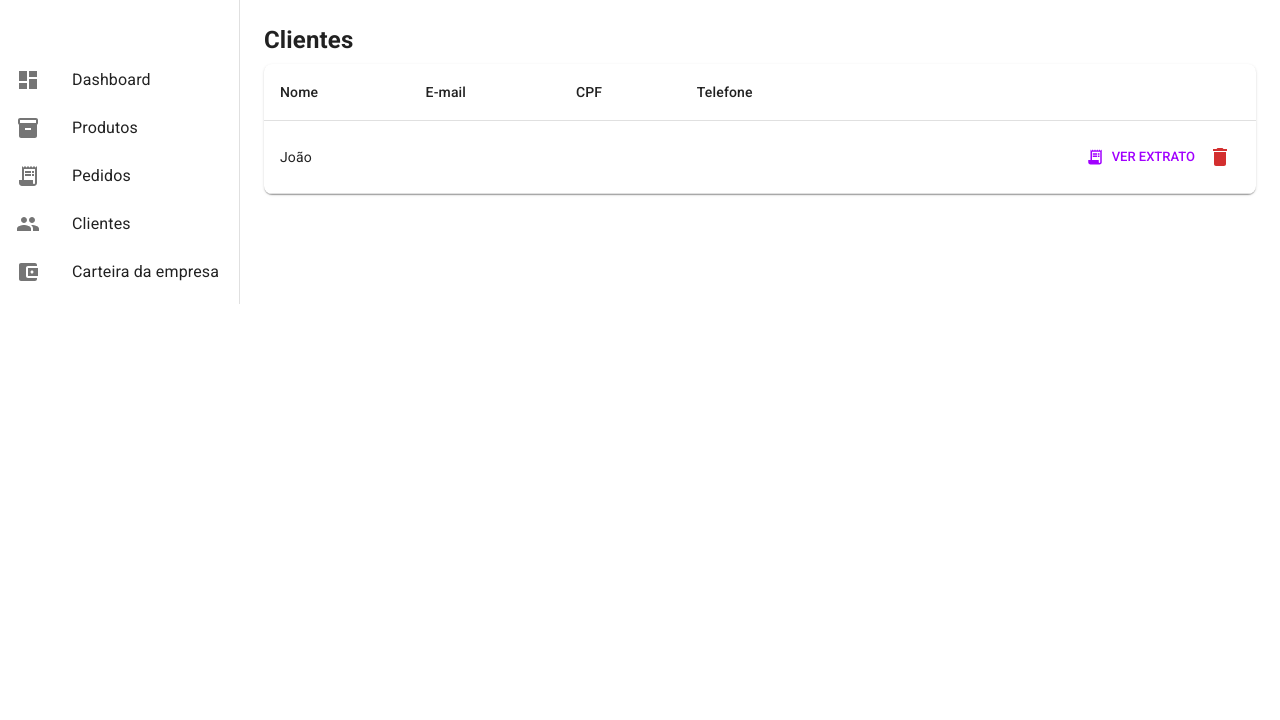
Test case: AdminCustomers › erro de delete notifica
This screenshot has width=1280, height=720.
Expected: the text "João" is shown, x1=264 y1=121 x2=410 y2=194
Click the button named "excluir".
click(1220, 157)  # box x1=1200 y1=137 x2=1240 y2=177
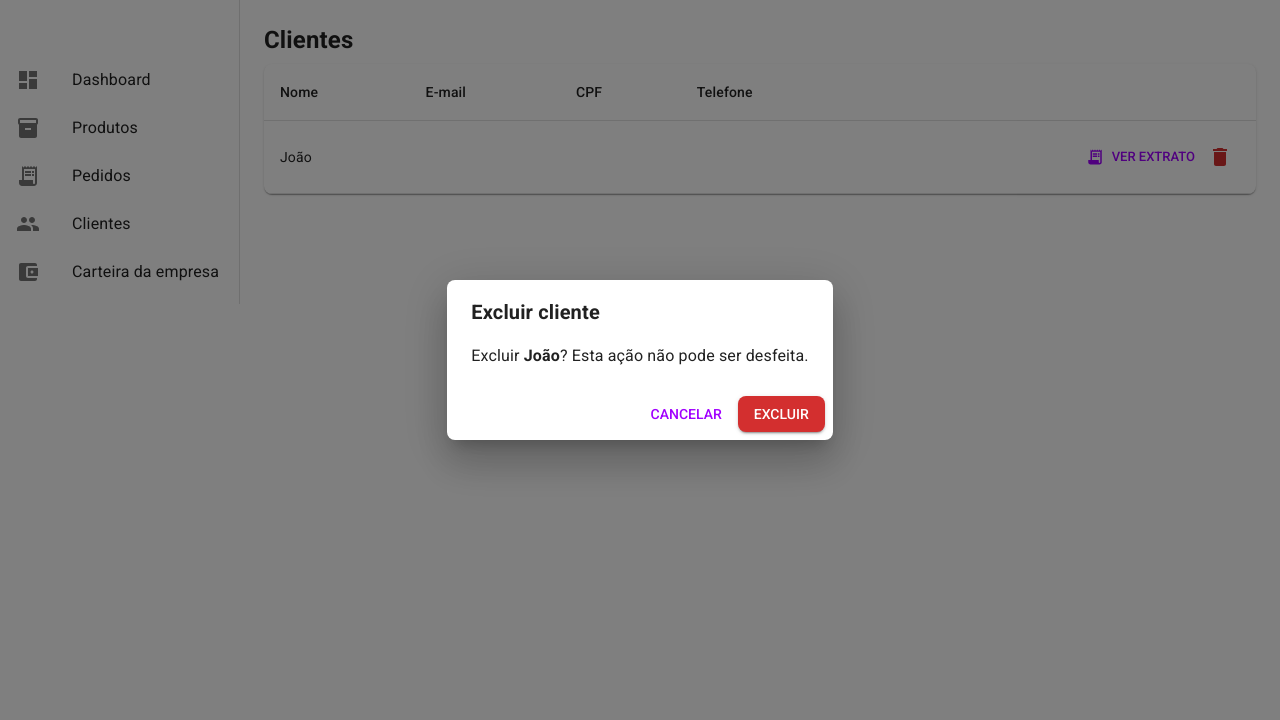
Click the button "Excluir".
click(781, 414)  # box x1=738 y1=396 x2=825 y2=432
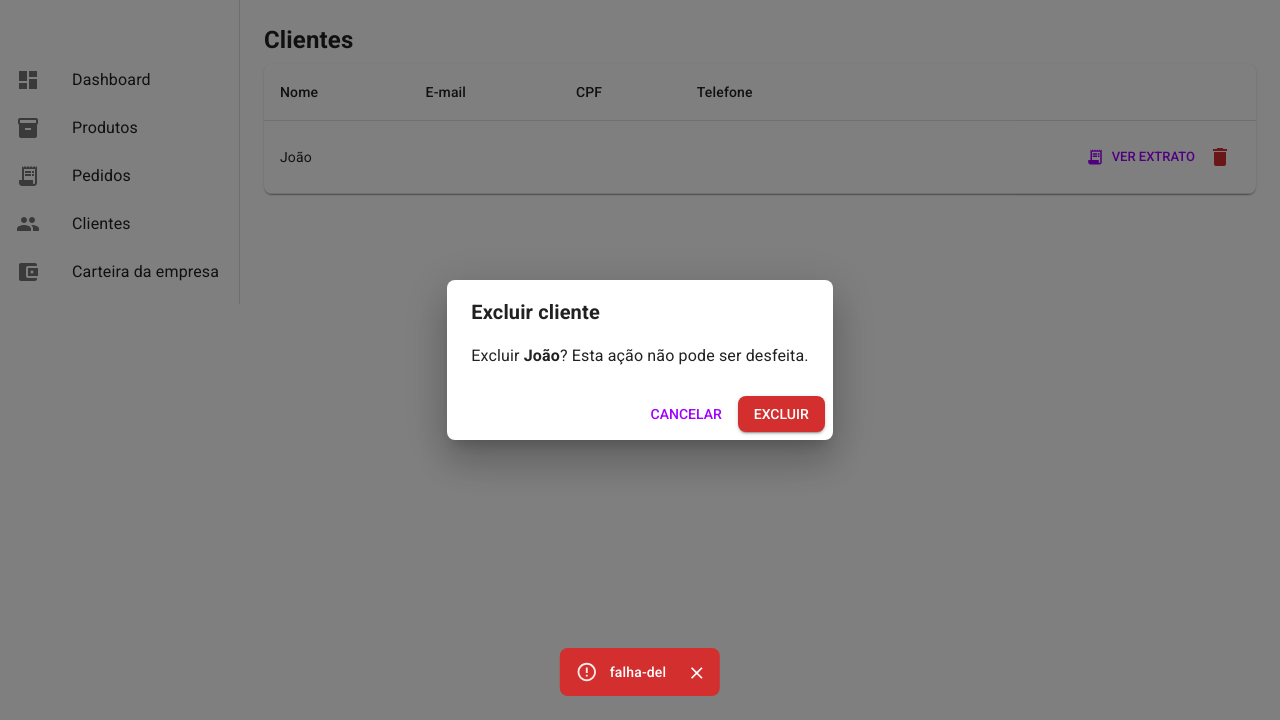
Now the text "falha-del" is shown, box x1=610 y1=664 x2=666 y2=680
